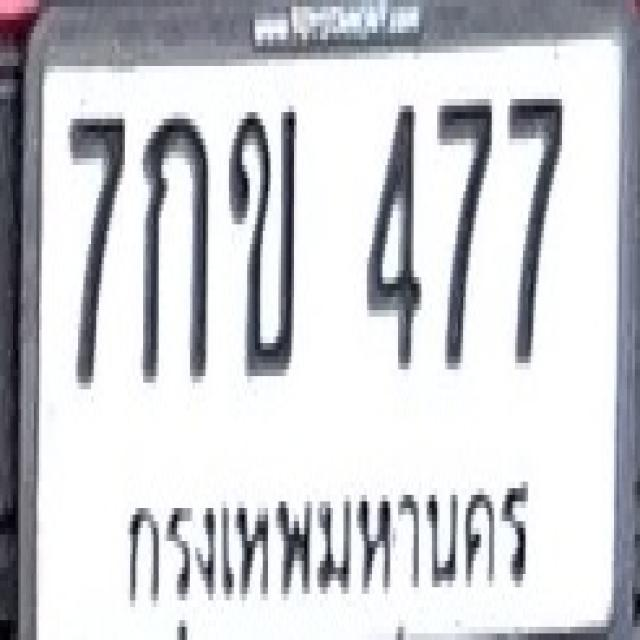4: (364, 99, 422, 369)
7: (434, 93, 492, 370), (68, 109, 125, 386), (507, 92, 562, 363)
A01: (141, 105, 208, 382)
A02: (226, 102, 296, 373)
BKK: (122, 465, 528, 613)
